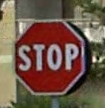stop: (12, 18, 86, 97)
